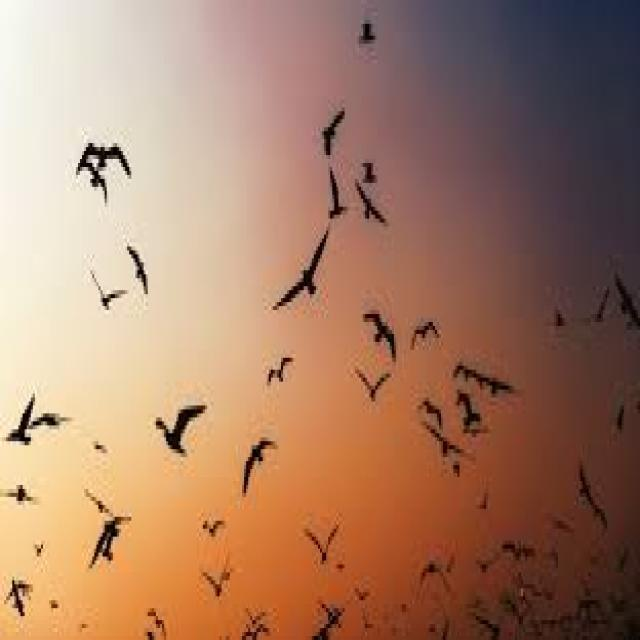bird: (266, 220, 338, 324), (146, 388, 214, 471), (68, 131, 136, 183), (350, 176, 399, 248), (240, 426, 283, 508), (354, 294, 403, 362), (1, 388, 42, 468), (346, 356, 400, 416), (310, 93, 351, 169), (425, 423, 488, 471), (258, 344, 298, 404), (124, 226, 157, 298), (578, 278, 614, 342), (83, 278, 130, 326), (197, 550, 236, 606), (448, 336, 487, 392), (300, 518, 344, 566), (405, 298, 440, 358), (615, 262, 640, 346), (90, 518, 132, 566), (321, 170, 352, 234), (74, 163, 115, 211), (414, 552, 458, 596), (570, 437, 595, 513), (5, 471, 40, 519), (487, 358, 518, 406), (77, 483, 114, 523), (456, 382, 484, 434), (316, 588, 345, 632), (196, 508, 231, 544), (417, 394, 445, 437), (3, 562, 32, 602), (470, 548, 504, 580), (33, 402, 76, 426), (142, 600, 174, 632), (358, 151, 386, 187), (243, 604, 268, 640), (504, 602, 534, 630), (351, 578, 374, 610), (90, 435, 116, 463), (10, 596, 35, 624), (511, 540, 534, 568), (34, 528, 50, 556), (46, 592, 60, 624)
